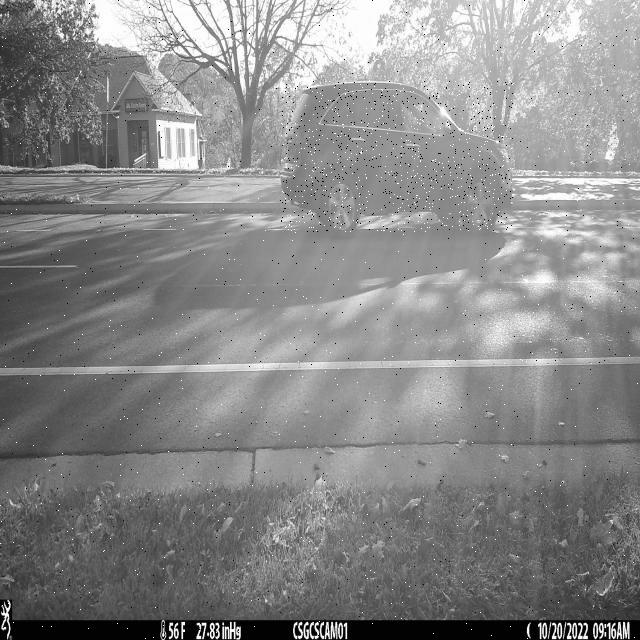SUV: (281, 81, 513, 232)
